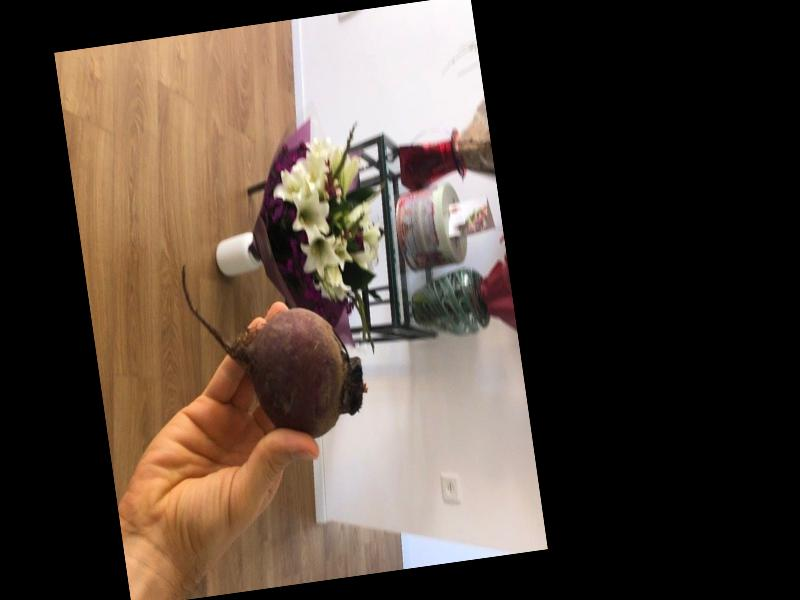Beet: (179, 238, 371, 452)
